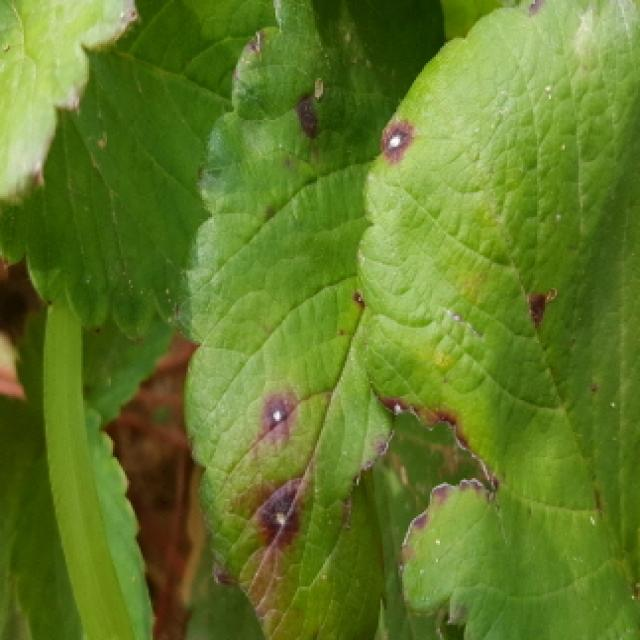Leaf Spot: (354, 0, 640, 640), (178, 0, 449, 640)
